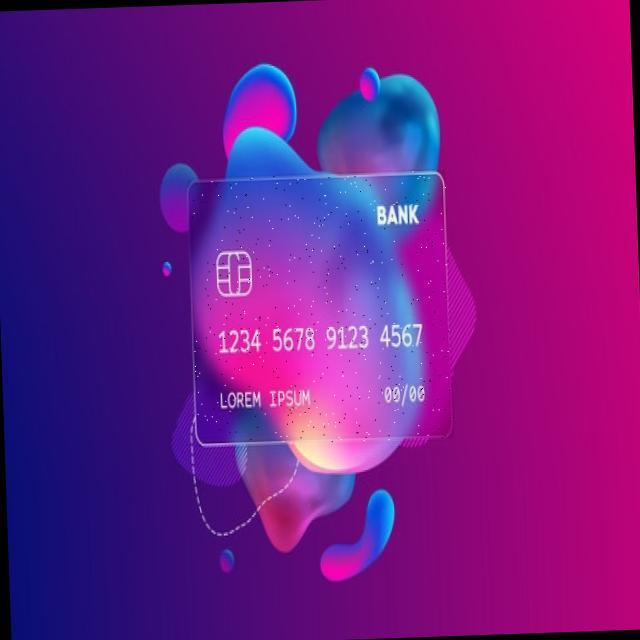payment_card: (186, 169, 459, 454)
